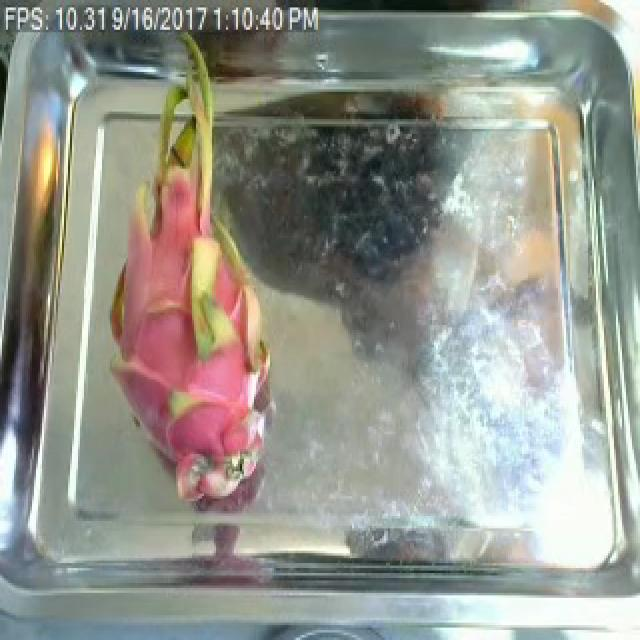fruit: (82, 70, 294, 503)
